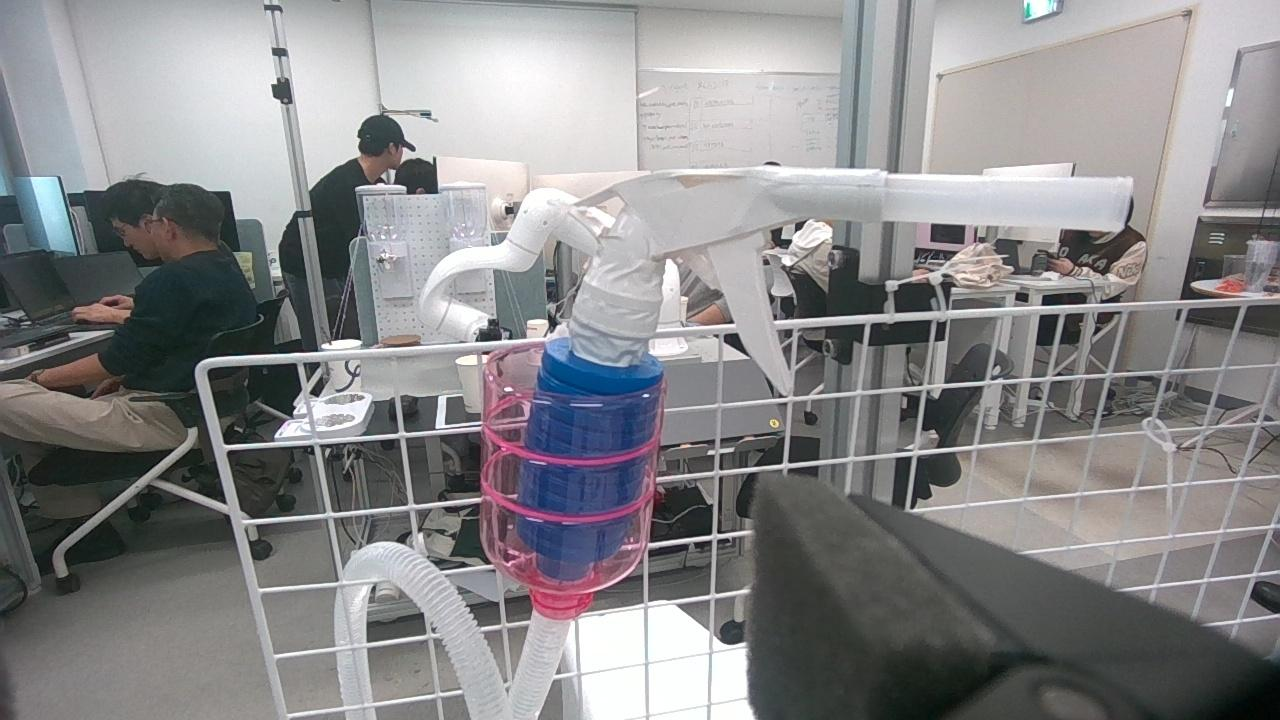Nozzle: (553, 158, 893, 545)
